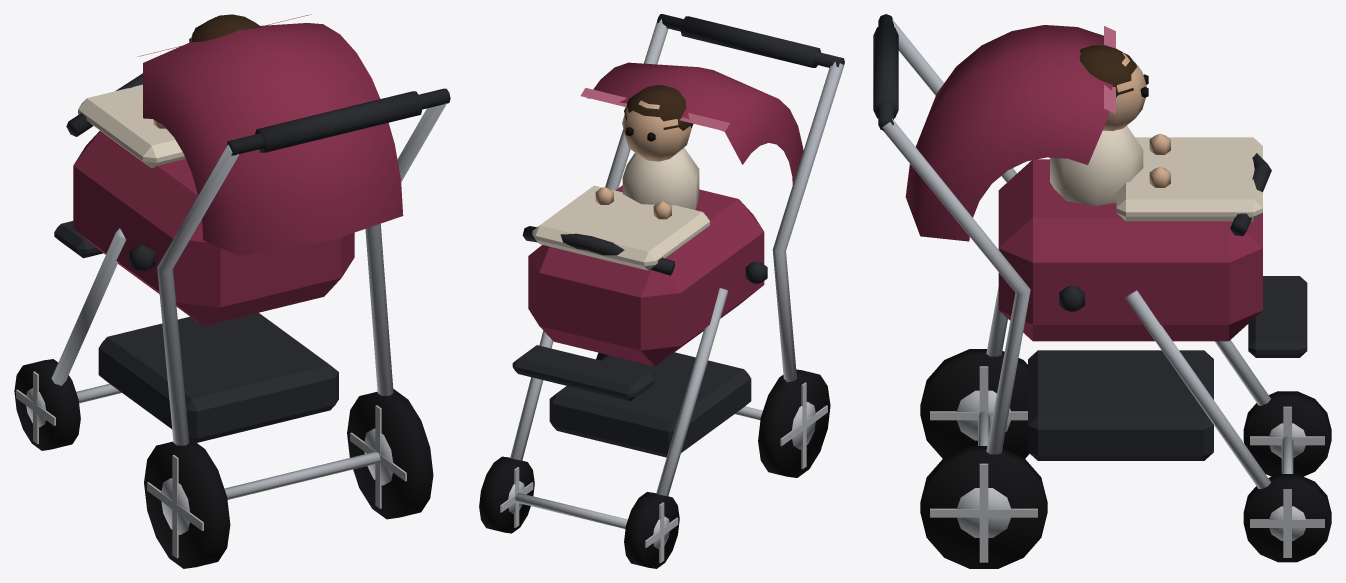
File: stroller_berry.glb
3 renders of one model, left to right at view 1: azimuth 30°, elevation 25°; view 2: azimuth 150°, elevation 25°; view 3: azimuth 270°, elevation 25°, orthographic. The views are drawn at different scales.
Visible parts, largest first — view 1: Body, Wheel_RL, Wheel_RR, Wheel_FL; view 2: Body, Wheel_RL, Wheel_FL, Wheel_FR; view 3: Body, Wheel_RR, Wheel_RL, Wheel_FR, Wheel_FL.
Boxes of the visible parts, bbox=[...] form: Body: bbox=[51, 14, 450, 499]; Wheel_RL: bbox=[144, 438, 230, 568]; Wheel_RR: bbox=[347, 389, 433, 519]; Wheel_FL: bbox=[14, 359, 80, 450]; Body: bbox=[510, 14, 844, 528]; Wheel_RL: bbox=[758, 369, 830, 477]; Wheel_FL: bbox=[624, 492, 679, 568]; Wheel_FR: bbox=[479, 456, 534, 533]; Body: bbox=[873, 14, 1307, 489]; Wheel_RR: bbox=[920, 446, 1047, 568]; Wheel_RL: bbox=[920, 349, 1029, 458]; Wheel_FR: bbox=[1243, 474, 1331, 562]; Wheel_FL: bbox=[1243, 391, 1331, 476].
Size of the model in its own units: 0.528 by 1.05 by 0.936.
